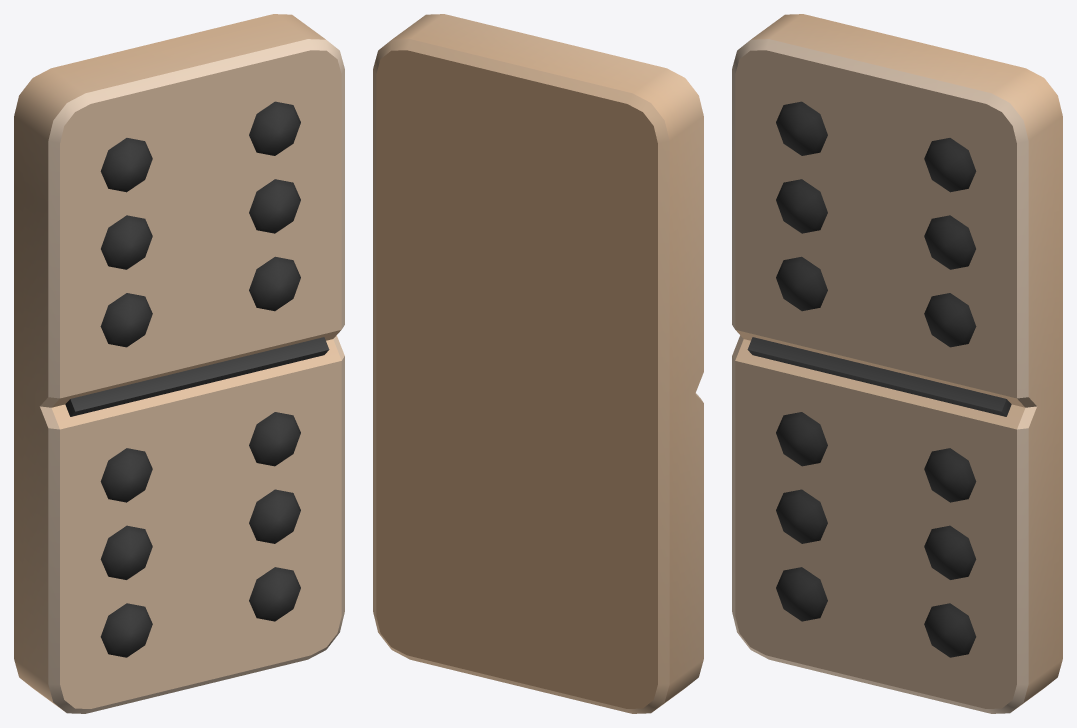
Rendered from KFB_Domino_6-6.r1.glb.
3 renders of one model, left to right at view 1: azimuth 30°, elevation 25°; view 2: azimuth 150°, elevation 25°; view 3: azimuth 330°, elevation 25°, orthographic.
Visible parts, largest first — view 1: KFB_Domino_6-6; view 2: KFB_Domino_6-6; view 3: KFB_Domino_6-6.
Boxes of the visible parts, box(x1,y1,x2,y2) form: KFB_Domino_6-6: box(14, 14, 344, 713); KFB_Domino_6-6: box(373, 14, 703, 713); KFB_Domino_6-6: box(732, 14, 1062, 713).
Size of the model in its own units: 2.44 by 4.87 by 0.6739.
1 material, 1 textured.
